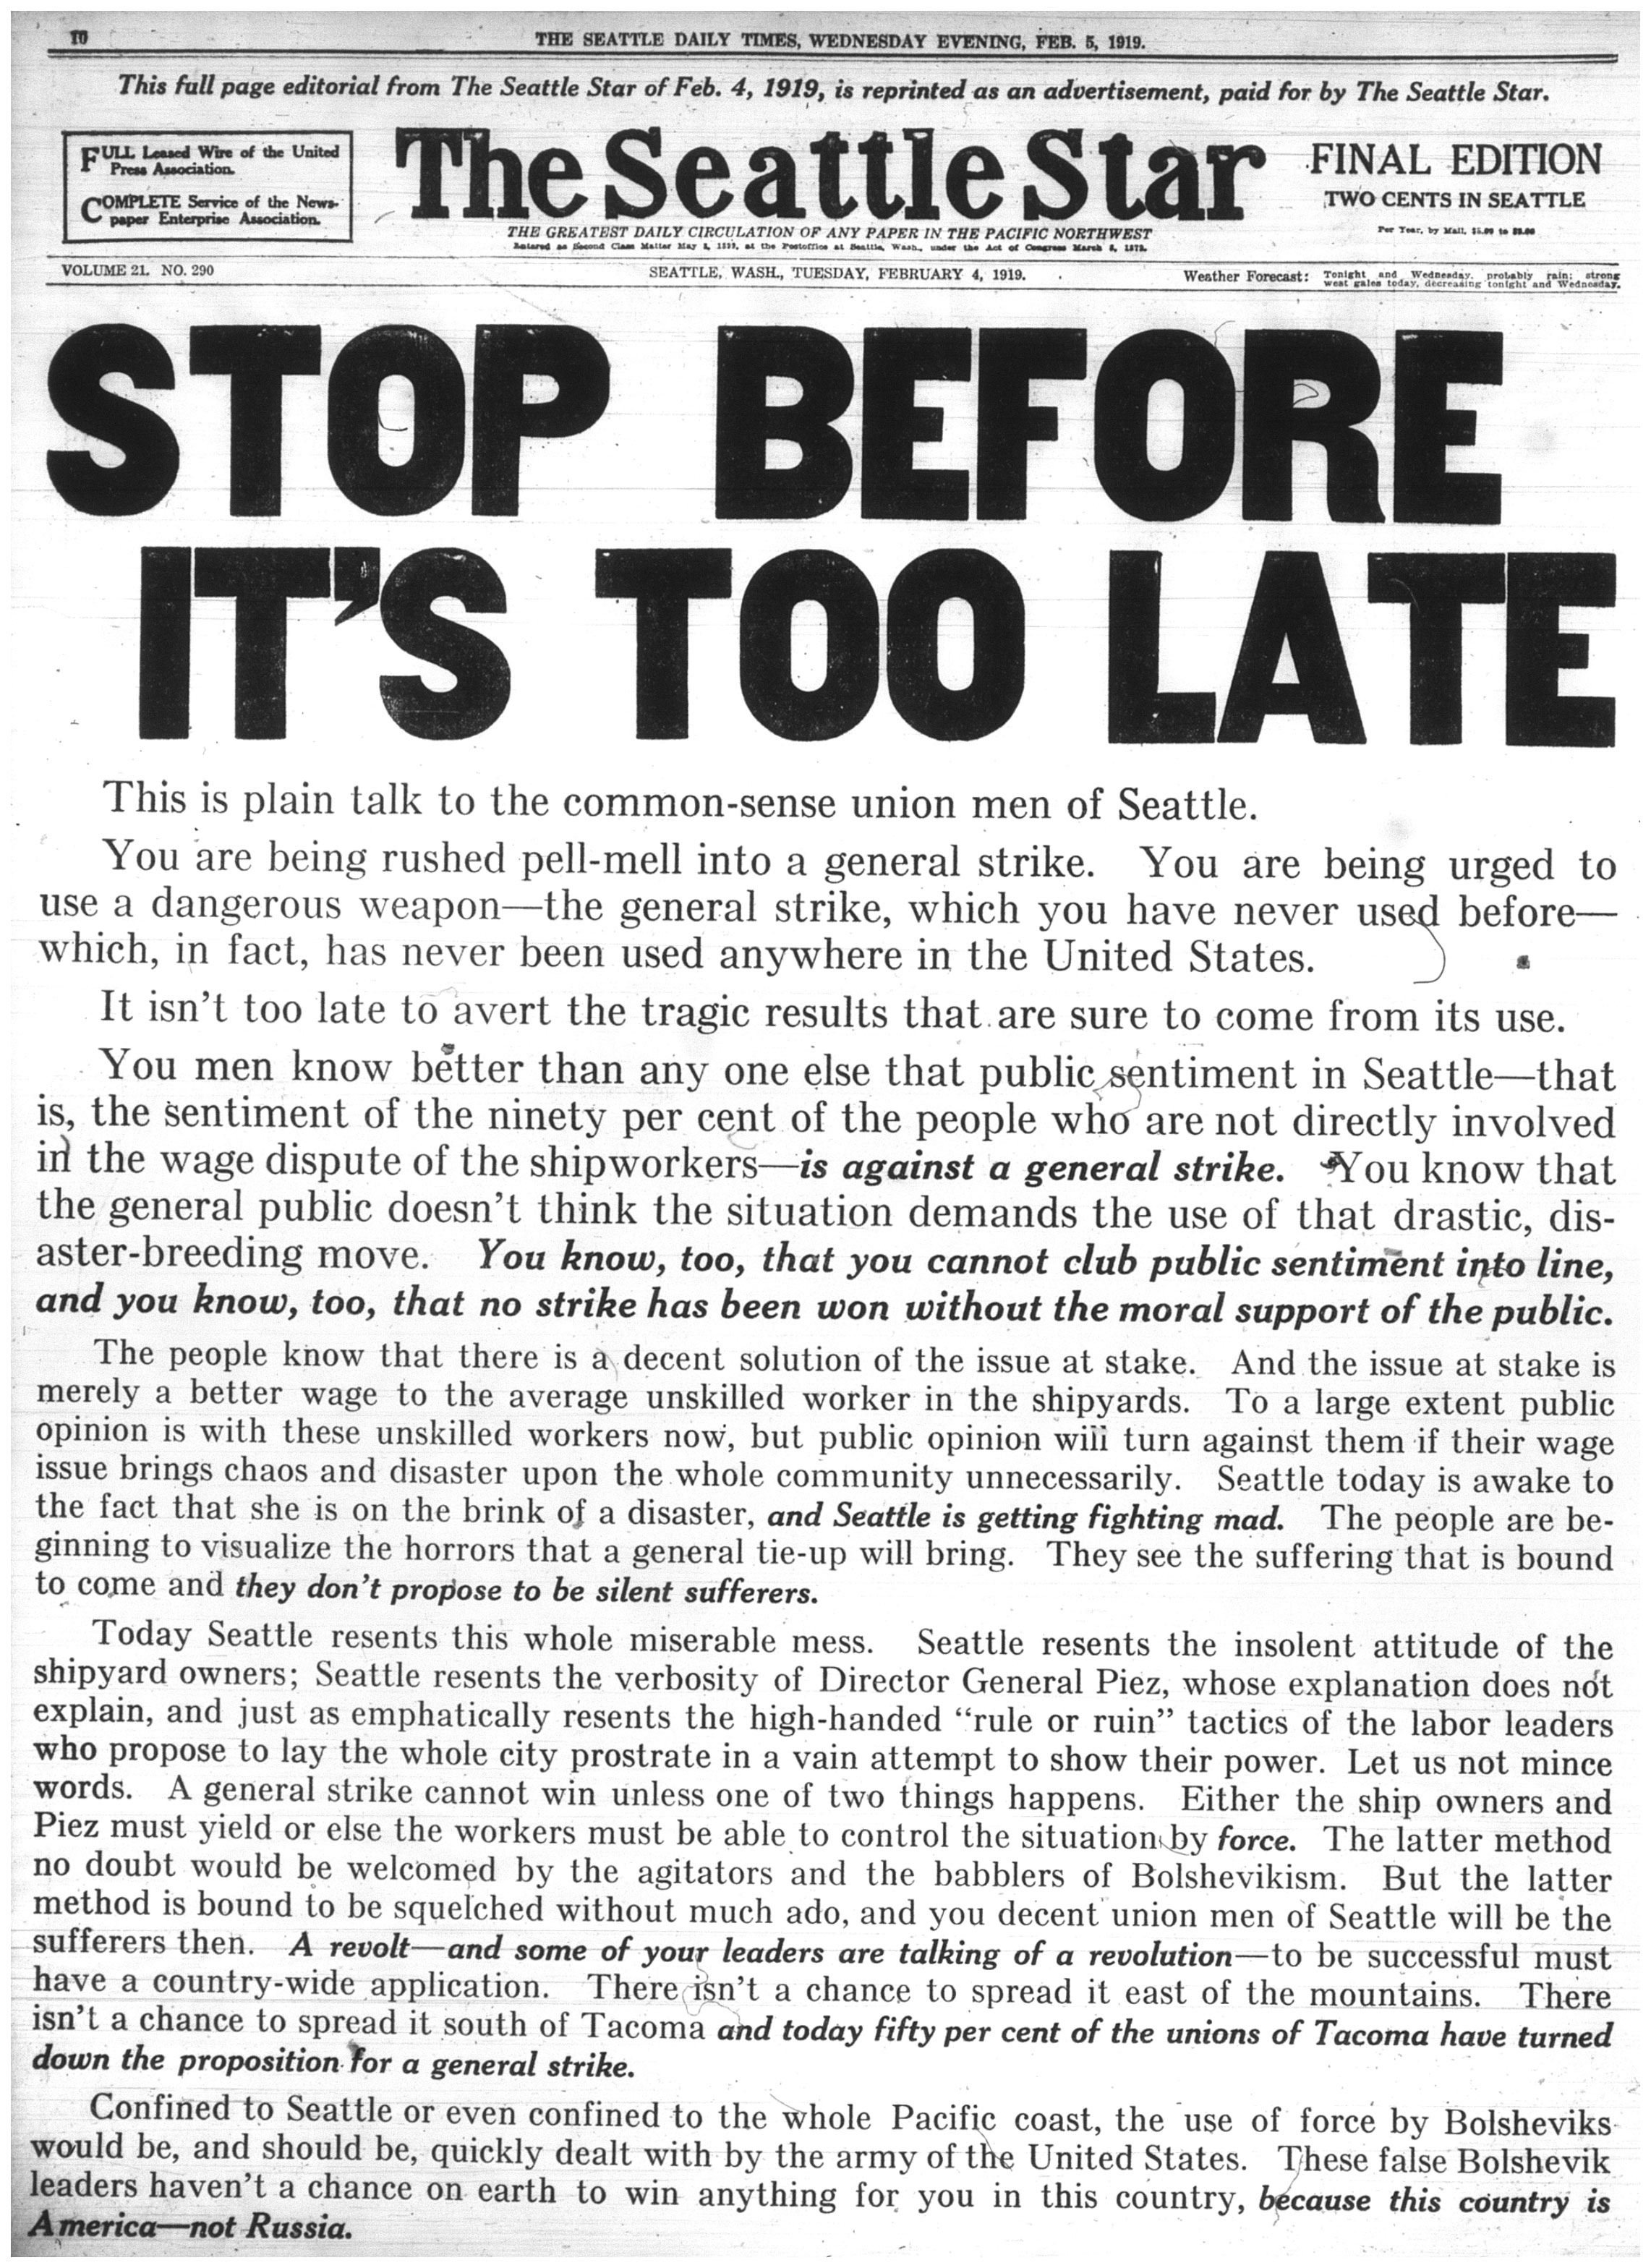news_paper: (5, 7, 1647, 2268)
